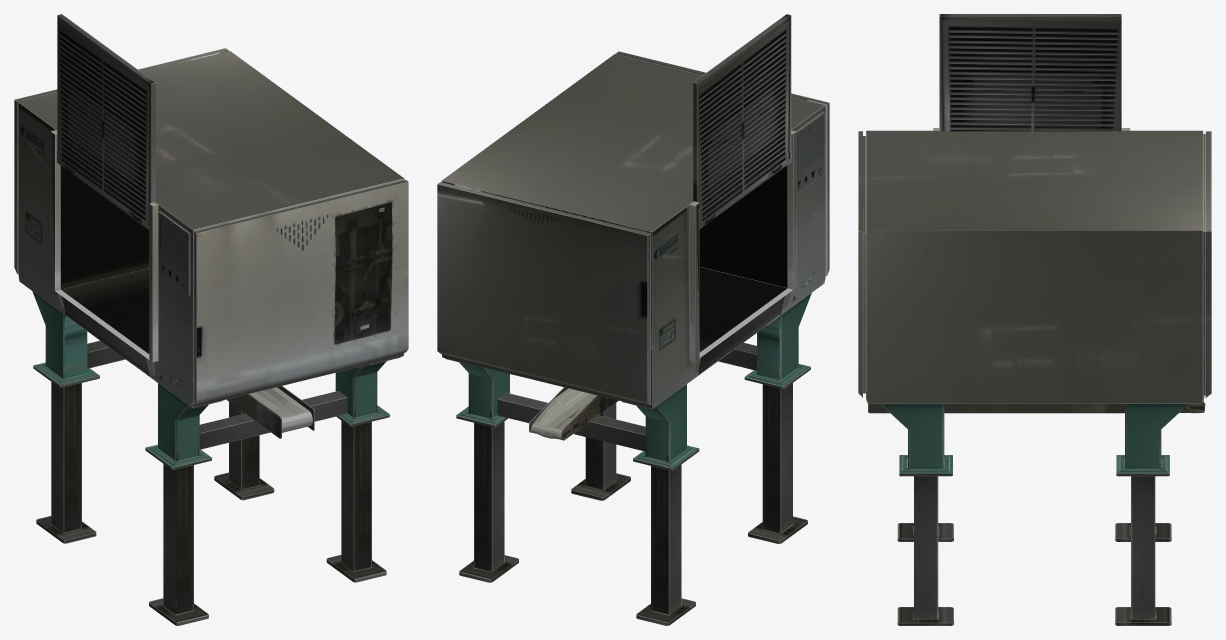
3 renders of one model, left to right at view 1: azimuth 30°, elevation 25°; view 2: azimuth 150°, elevation 25°; view 3: azimuth 270°, elevation 25°, orthographic. The views are drawn at different scales.
Visible parts, largest first — view 1: Plane.003_Baked; view 2: Plane.003_Baked; view 3: Plane.003_Baked.
Boxes of the visible parts, x1,y1,x2,y2 form: Plane.003_Baked: (14, 14, 408, 625); Plane.003_Baked: (437, 14, 829, 625); Plane.003_Baked: (858, 14, 1211, 625).
Size of what is drawn, in the model's own units: 4.66 by 10.64 by 6.68.
1 material, 1 textured.
